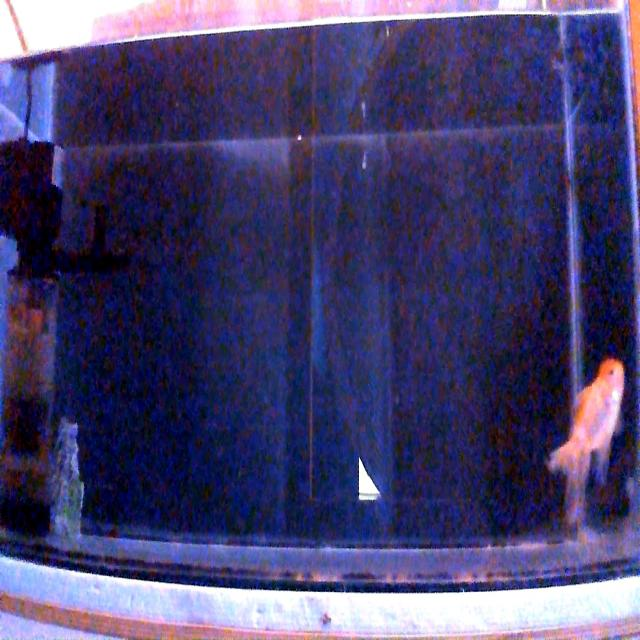fish: (546, 359, 624, 529)
